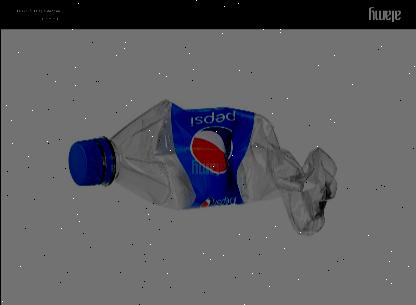Plastic Bottle: (67, 100, 336, 236)
